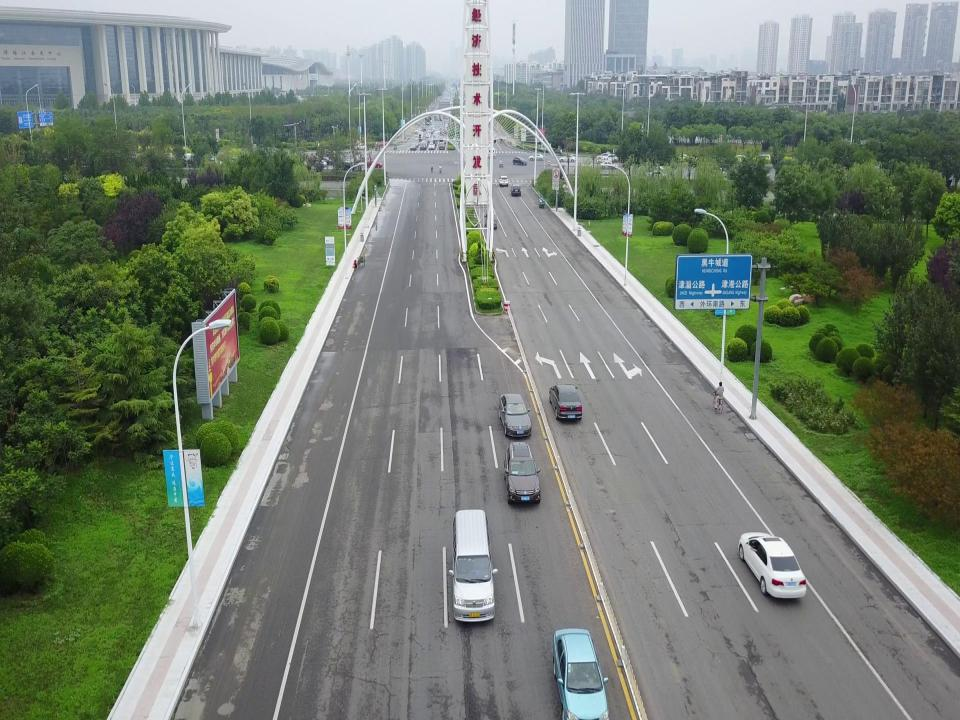car: (553, 628, 609, 720), (738, 531, 806, 599), (503, 442, 540, 505), (498, 393, 532, 437), (549, 383, 582, 421), (484, 212, 498, 229), (558, 153, 577, 164), (527, 153, 545, 162), (512, 156, 528, 166), (498, 176, 509, 188), (511, 184, 521, 197), (353, 143, 367, 151)
van: (448, 509, 498, 623)
